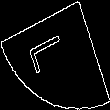L_E: (32, 31, 78, 79)
